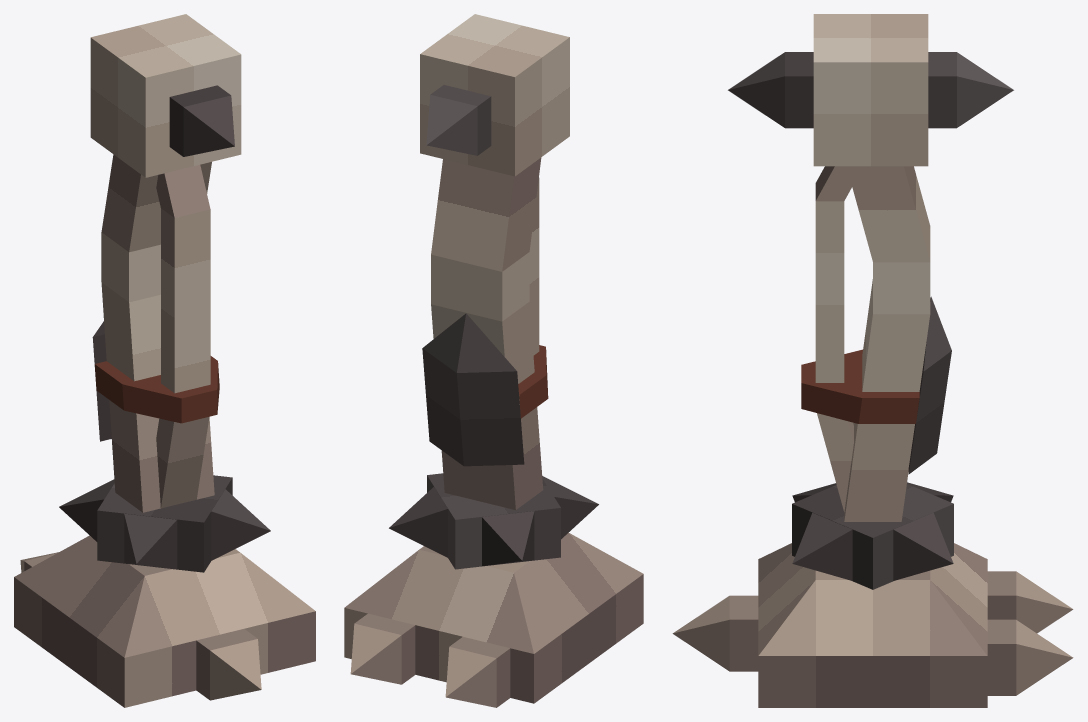
Rendered from leg_reinforced_r.obj.
3 views of the same model, side by side, from view 1: azimuth 30°, elevation 25°; view 2: azimuth 150°, elevation 25°; view 3: azimuth 270°, elevation 25° (orthographic). The views are drawn at different scales.
Parts seen in each view (by area): view 1: LEG_RIGHT_BONE_RENIFORCED_Cube.456; view 2: LEG_RIGHT_BONE_RENIFORCED_Cube.456; view 3: LEG_RIGHT_BONE_RENIFORCED_Cube.456.
Boxes of the visible parts, x1,y1,x2,y2 form: LEG_RIGHT_BONE_RENIFORCED_Cube.456: (14,14,315,707); LEG_RIGHT_BONE_RENIFORCED_Cube.456: (344,14,643,707); LEG_RIGHT_BONE_RENIFORCED_Cube.456: (672,14,1073,707).
Size of the model in its own units: 0.25 by 0.7478 by 0.4375.
